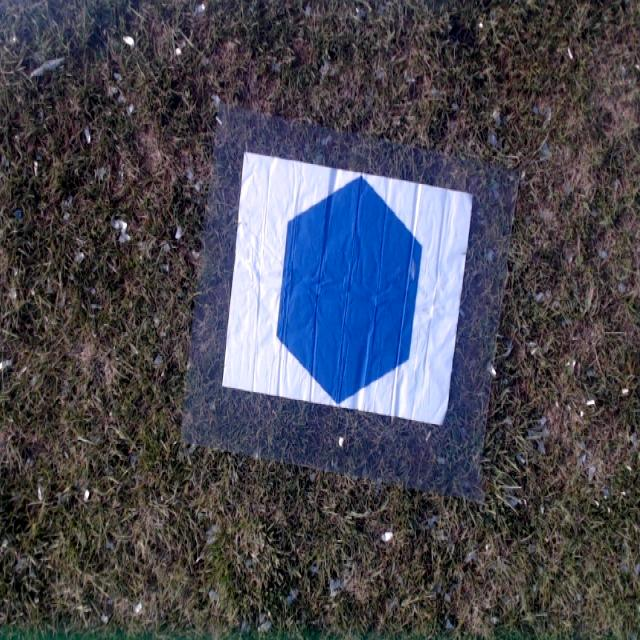blue_hexagon: (275, 174, 423, 404)
